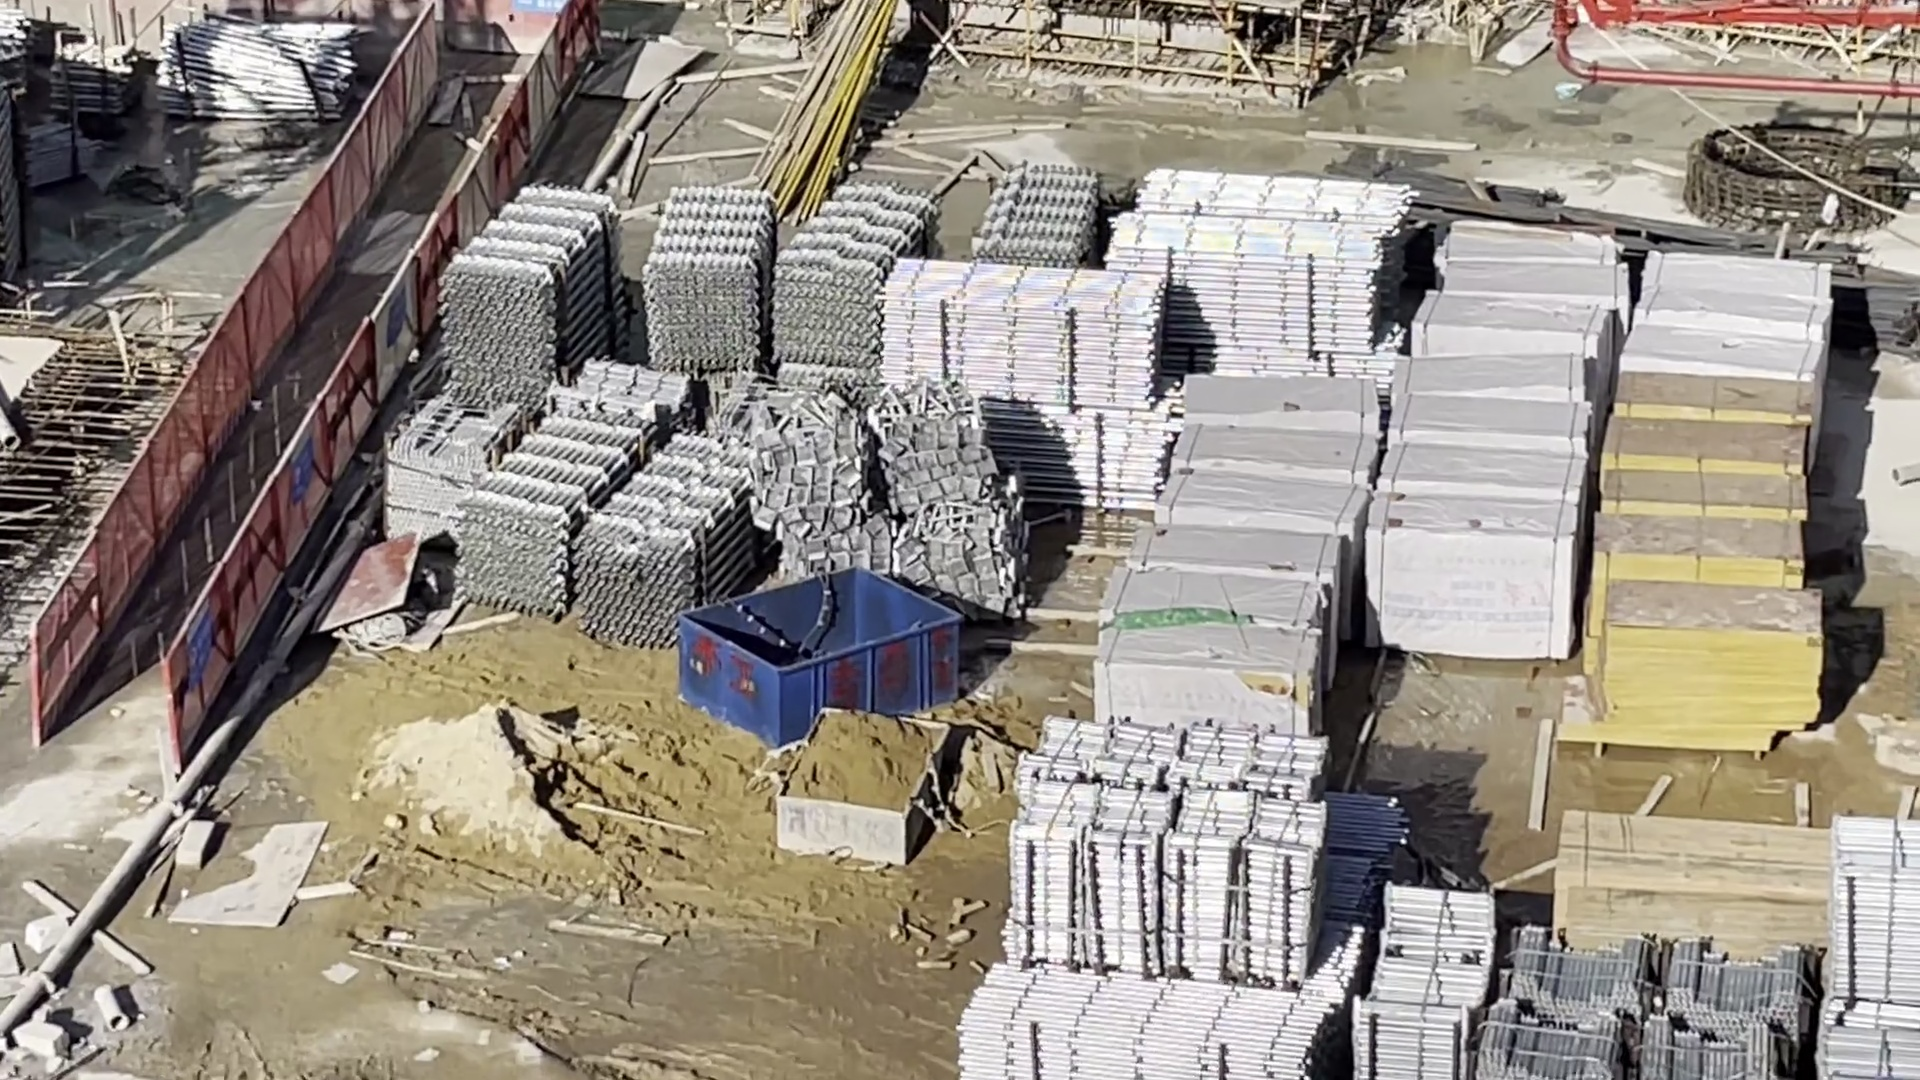board: (1596, 377, 1813, 746), (1568, 814, 1821, 944)
fence: (42, 15, 579, 713)
hopper: (676, 564, 963, 752), (783, 711, 952, 862)
rebar: (1424, 175, 1916, 360)
scaffold: (1011, 717, 1316, 972), (876, 266, 1160, 501), (469, 410, 744, 629), (1108, 171, 1400, 349), (647, 185, 927, 357), (1497, 928, 1815, 1080), (438, 193, 628, 396), (959, 977, 1336, 1076), (1815, 816, 1919, 1077), (1361, 884, 1489, 1073), (152, 29, 355, 119), (973, 156, 1100, 262), (47, 45, 138, 112)
slogan: (183, 601, 214, 684), (287, 435, 313, 504)
